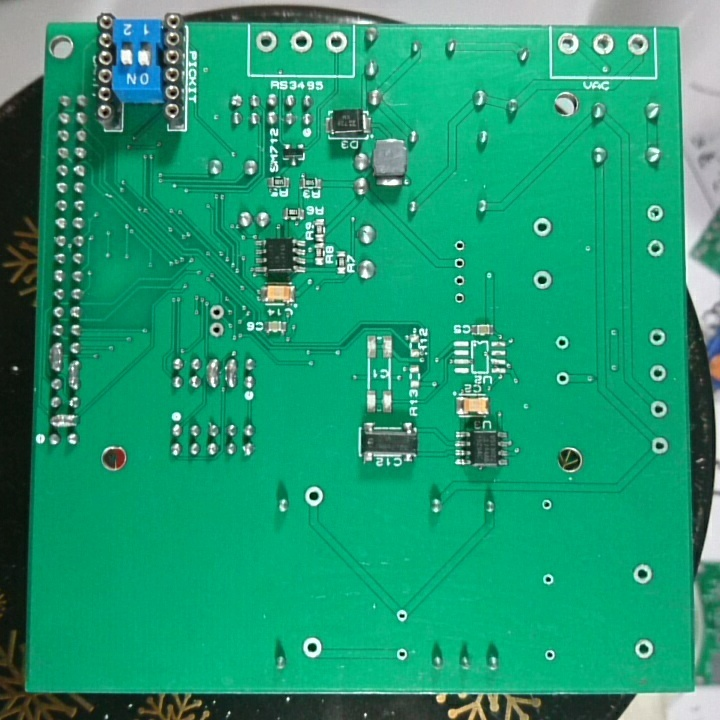F: (529, 266, 557, 295), (322, 29, 351, 57), (286, 28, 315, 56), (530, 212, 557, 242), (625, 30, 650, 60), (590, 32, 618, 58), (556, 30, 582, 58), (299, 635, 324, 661), (631, 635, 657, 660), (254, 29, 279, 55), (630, 560, 654, 587), (302, 483, 325, 511), (645, 324, 668, 352), (647, 434, 671, 458), (644, 202, 667, 226), (648, 396, 668, 423), (645, 236, 667, 260), (647, 361, 668, 386), (207, 301, 228, 321), (553, 368, 573, 388), (207, 320, 226, 340), (553, 332, 571, 352), (539, 570, 557, 589), (394, 605, 411, 625), (542, 645, 559, 665), (451, 271, 469, 289), (538, 495, 554, 515), (393, 646, 411, 663), (451, 237, 468, 255), (451, 255, 469, 272), (451, 289, 469, 306)
P: (43, 412, 82, 431), (46, 341, 66, 376), (65, 357, 84, 392), (222, 355, 239, 392), (204, 355, 221, 390)
